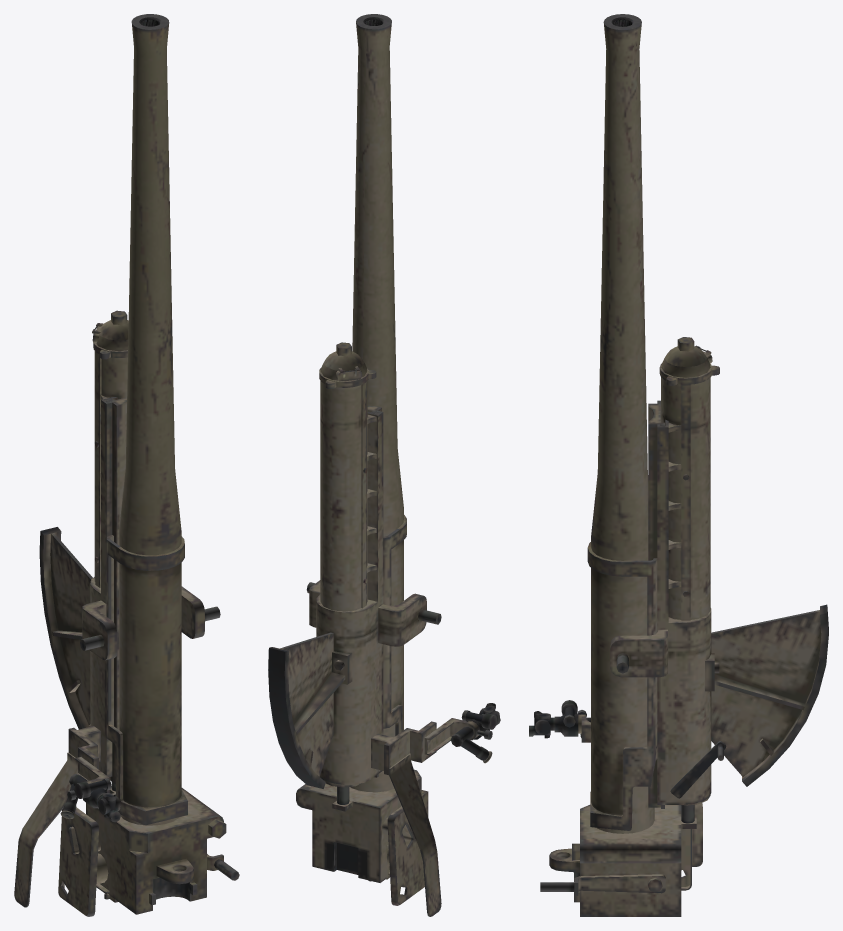
The model's file is Gun_02.glb.
The picture shows the model from 3 angles, left to right: view 1: azimuth 30°, elevation 25°; view 2: azimuth 150°, elevation 25°; view 3: azimuth 270°, elevation 25°; orthographic projection. The views are drawn at different scales.
Visible parts, largest first — view 1: set_0_group_0; view 2: set_0_group_0; view 3: set_0_group_0.
Part boxes in pixels (left/top/right/bottom): set_0_group_0: left=14, top=14, right=239, bottom=916; set_0_group_0: left=268, top=14, right=500, bottom=916; set_0_group_0: left=529, top=14, right=828, bottom=916.
Bounding box in the file's own units: 0.5929 × 2.9 × 0.8811.
Materials: 1 (1 with a texture image).
